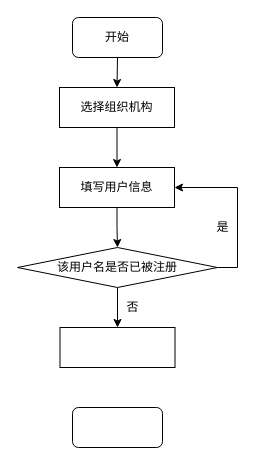
Image size: 263x465. Some labels were removed from this diagram. Here are the shapes that lost their labels. From the top down, the box of each, then its label:
(59, 326, 175, 368): 注册成功待审核
(72, 406, 162, 448): 结束
